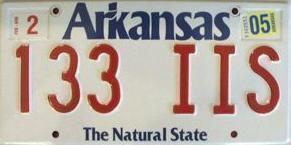placa de veiculo: (1, 0, 289, 142)
